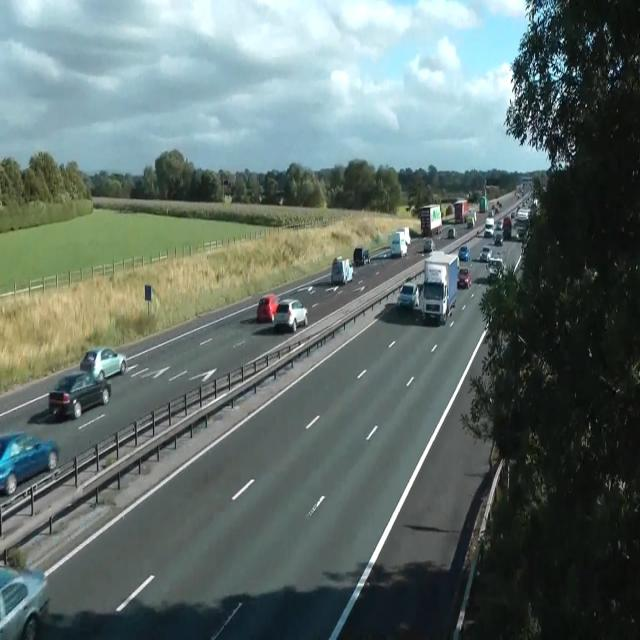bus: (0, 430, 60, 495), (0, 565, 49, 639), (256, 293, 280, 323), (397, 282, 419, 310), (457, 267, 471, 289), (438, 227, 456, 240), (458, 244, 470, 262), (480, 246, 491, 262), (423, 238, 435, 252), (516, 226, 526, 241), (362, 249, 370, 264), (448, 228, 456, 239), (466, 218, 474, 228)
jeep: (48, 370, 111, 420), (80, 346, 126, 380), (272, 298, 308, 332), (331, 256, 353, 284), (486, 256, 503, 279), (484, 216, 494, 236)
minibus: (421, 250, 459, 324), (418, 204, 442, 236), (388, 232, 408, 258), (516, 208, 530, 240), (454, 200, 468, 223), (353, 247, 370, 265), (396, 227, 410, 245), (466, 209, 476, 228), (479, 195, 487, 212)
